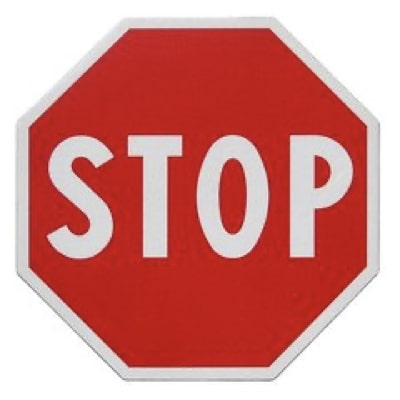StopSign: (13, 15, 383, 384)
